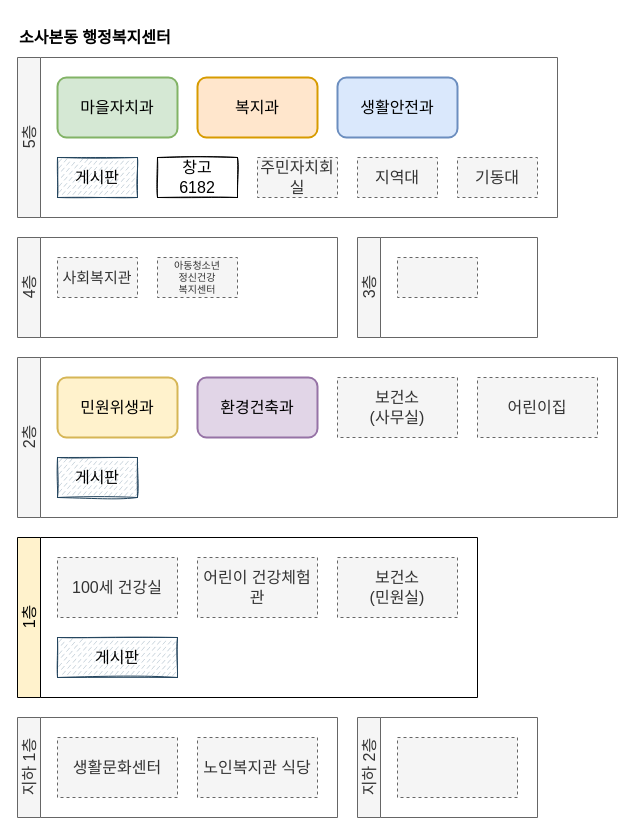
This 635x835 diagram has some shape labels left out. Each missing label, with the centre of its shape:
기록관 서고: (457,767)
소사노인복지관: (437,277)
